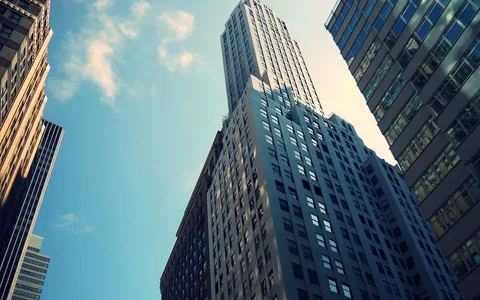high_rise_building: (210, 2, 341, 291)
